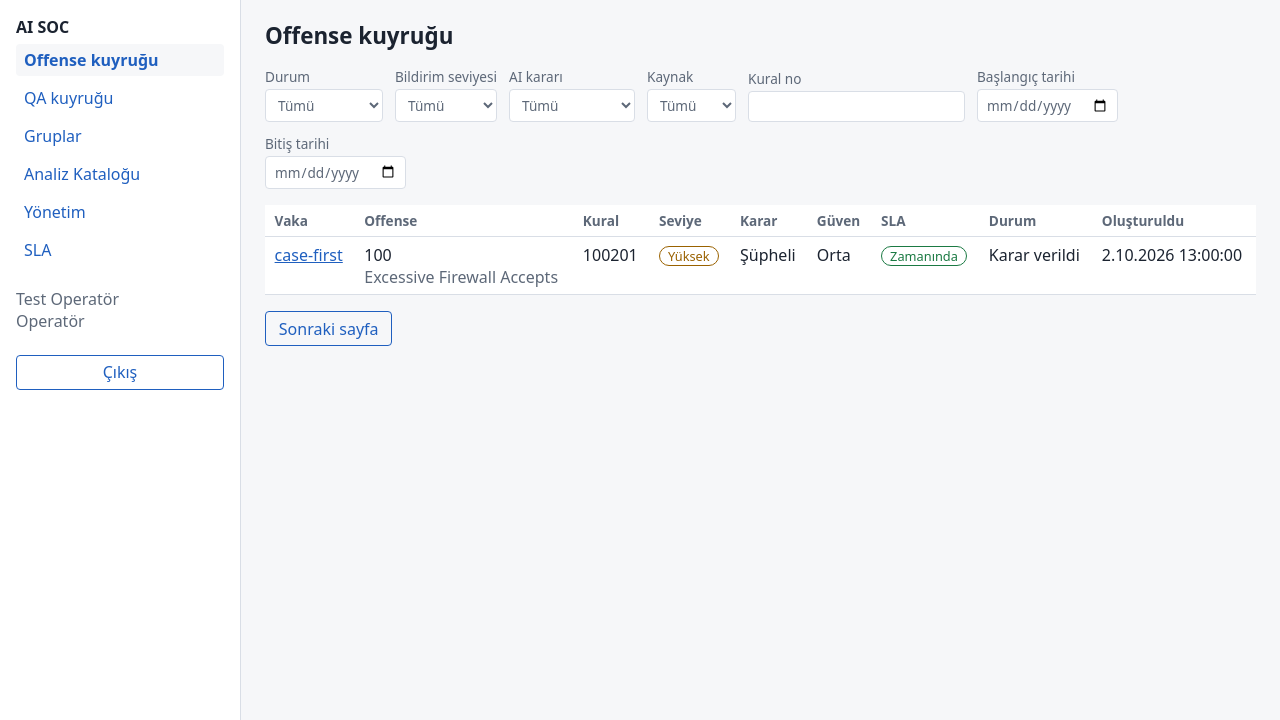
offense queue (criterion 4) › loads the next page with the cursor
The width and height of the screenshot is (1280, 720).
Expected: the link "case-first" is shown, [275,244,343,266]
Click the button "Sonraki sayfa" at point(329, 329), box [265,311,392,346]
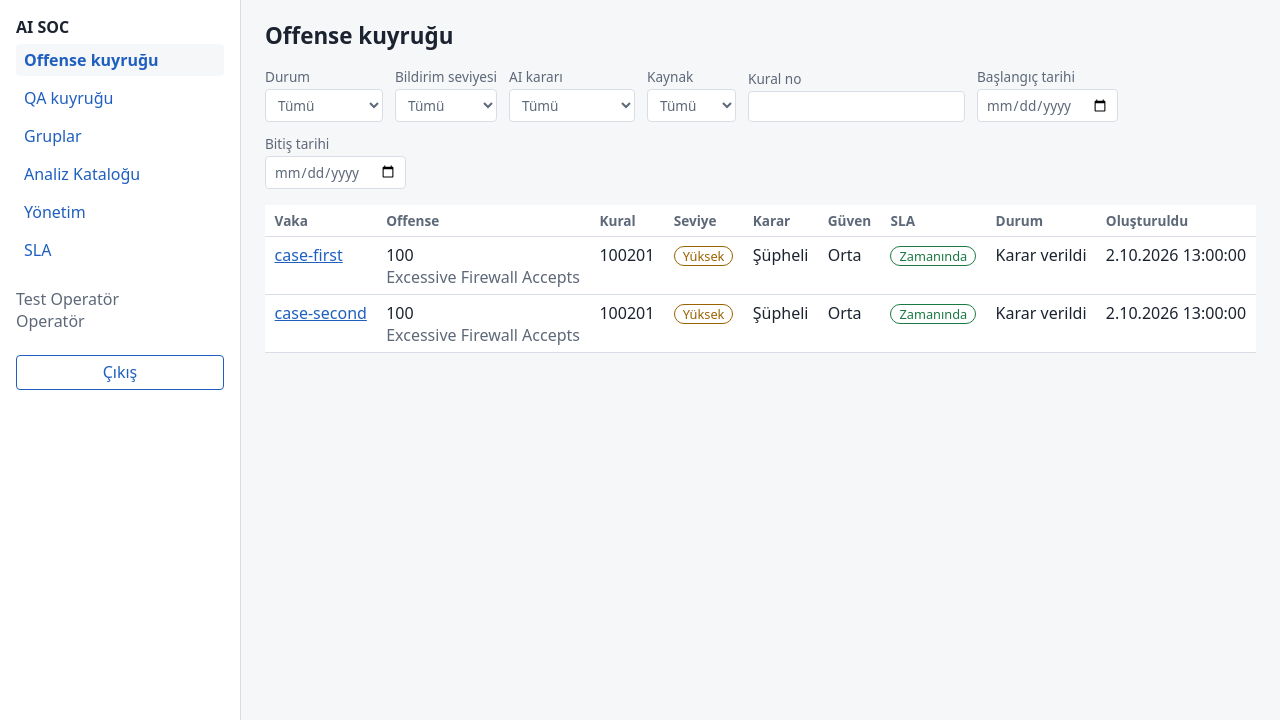
Expected: the link "case-first" is shown, [275,244,343,266]
Expected: the link "case-second" is shown, [275,302,367,324]
Expected: the button "Sonraki sayfa" is gone
